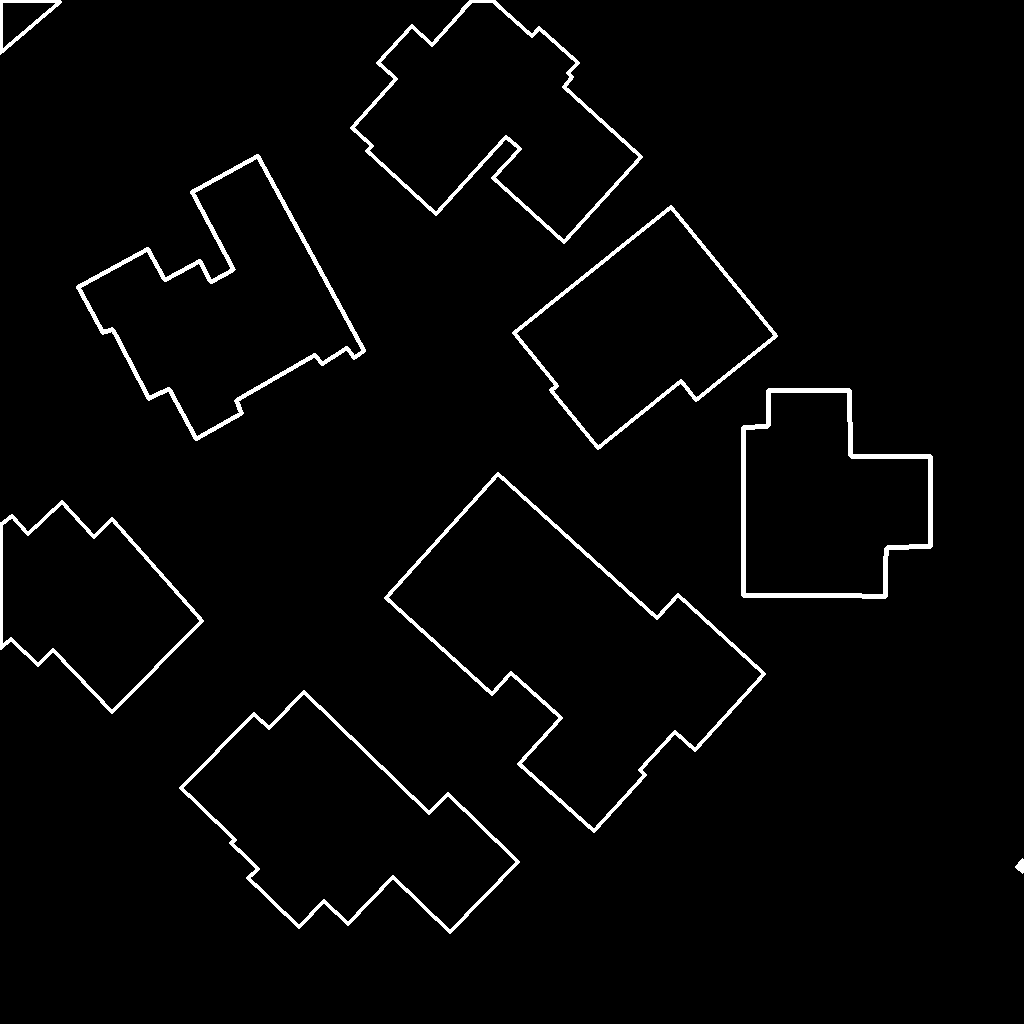building: (386, 474, 765, 832), (78, 156, 365, 440), (181, 692, 519, 933), (352, 0, 642, 243), (514, 207, 777, 449), (0, 502, 203, 713), (743, 390, 931, 597), (0, 0, 61, 54), (1017, 860, 1024, 873)
